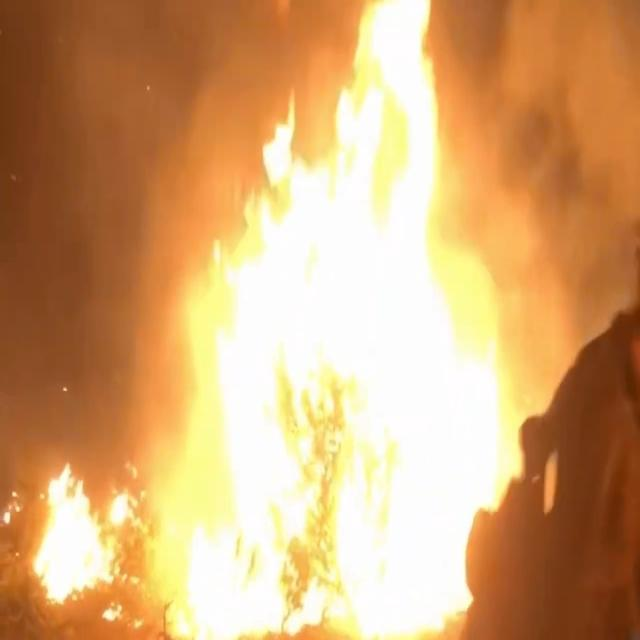Fire: (29, 5, 508, 640)
